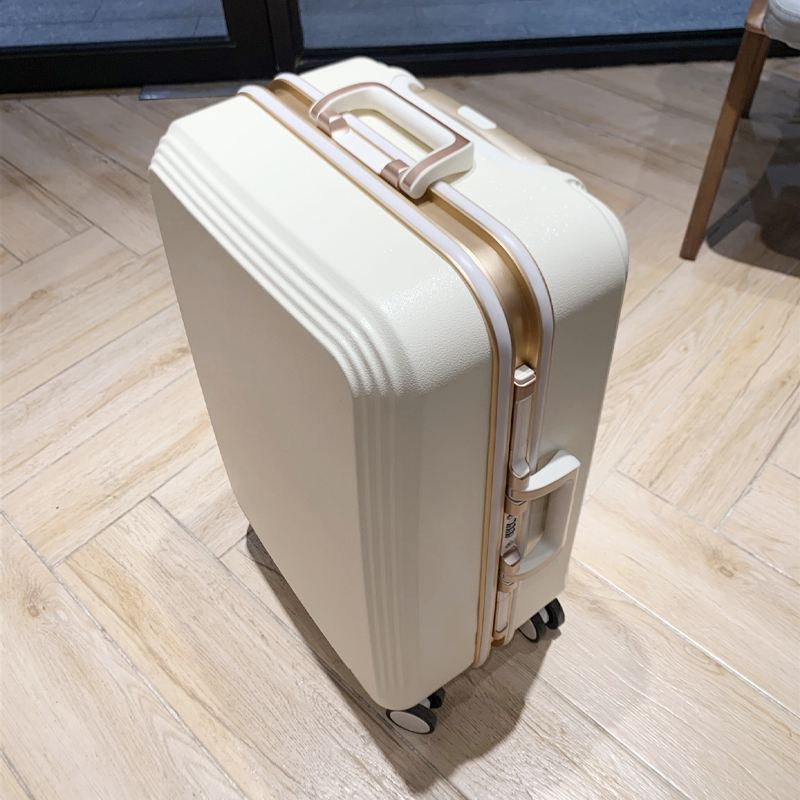box: (146, 54, 629, 711)
handle: (308, 80, 476, 203), (498, 448, 581, 588)
wheel: (387, 687, 444, 735), (518, 595, 566, 643)
